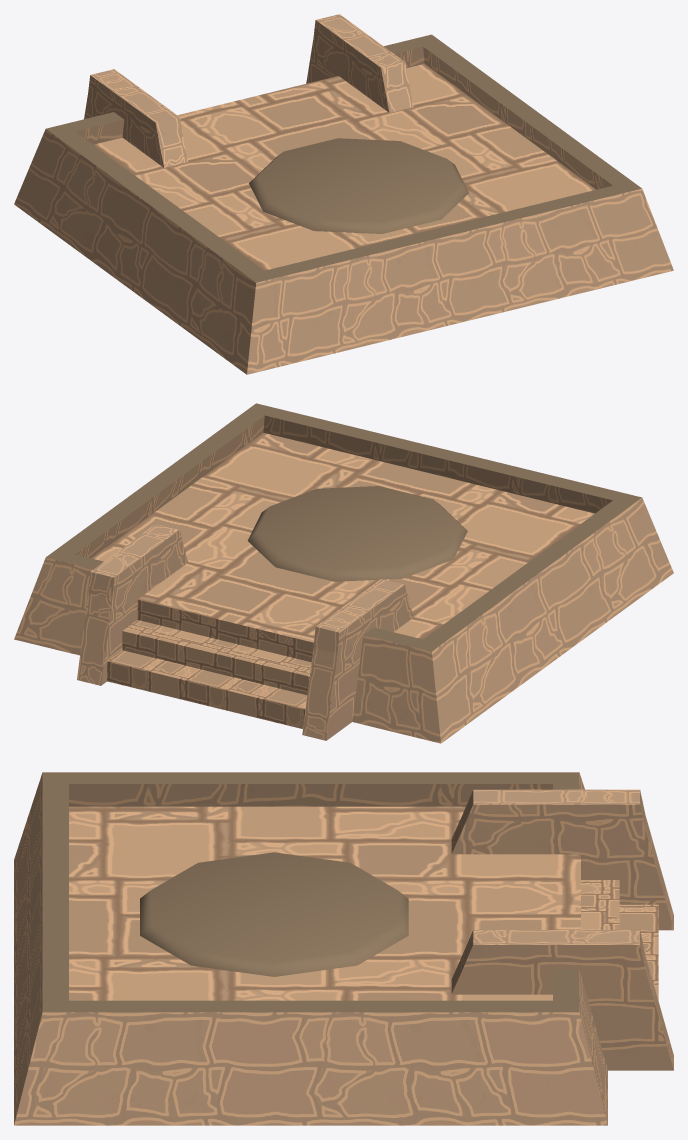
File: Shrine.fbx
The picture shows the model from 3 angles, top to bottom: view 1: azimuth 30°, elevation 25°; view 2: azimuth 150°, elevation 25°; view 3: azimuth 270°, elevation 25°; orthographic projection. The views are drawn at different scales.
Visible parts, largest first — view 1: Shrine; view 2: Shrine; view 3: Shrine.
Part boxes in pixels (bbox=[...]): Shrine: bbox=[14, 14, 673, 374]; Shrine: bbox=[14, 403, 673, 743]; Shrine: bbox=[14, 772, 673, 1125].
Bounding box in the file's own units: 3.26 × 0.7174 × 3.42.
